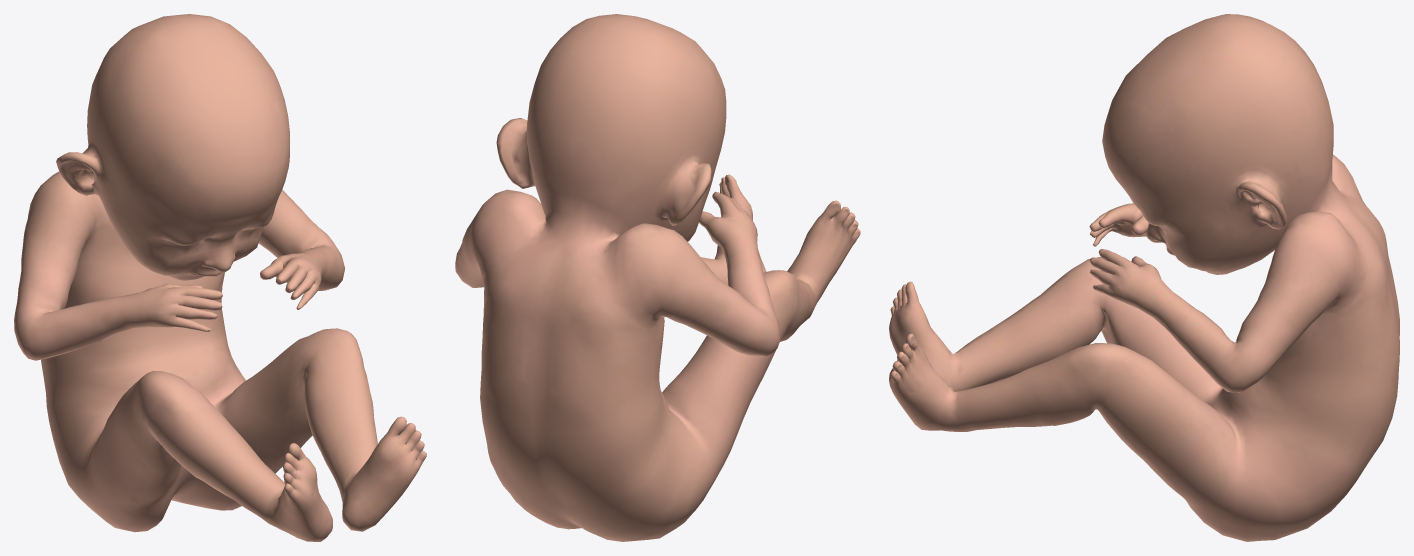
The picture shows the model from 3 angles, left to right: view 1: azimuth 30°, elevation 25°; view 2: azimuth 150°, elevation 25°; view 3: azimuth 270°, elevation 25°; orthographic projection.
Parts seen in each view (by area): view 1: Baby; view 2: Baby; view 3: Baby.
Boxes of the visible parts, x1,y1,x2,y2 form: Baby: (14, 14, 426, 541); Baby: (455, 14, 860, 541); Baby: (889, 14, 1399, 541).
Bounding box in the file's own units: 0.2328 × 0.3478 × 0.3253.
1 material, 1 textured.
